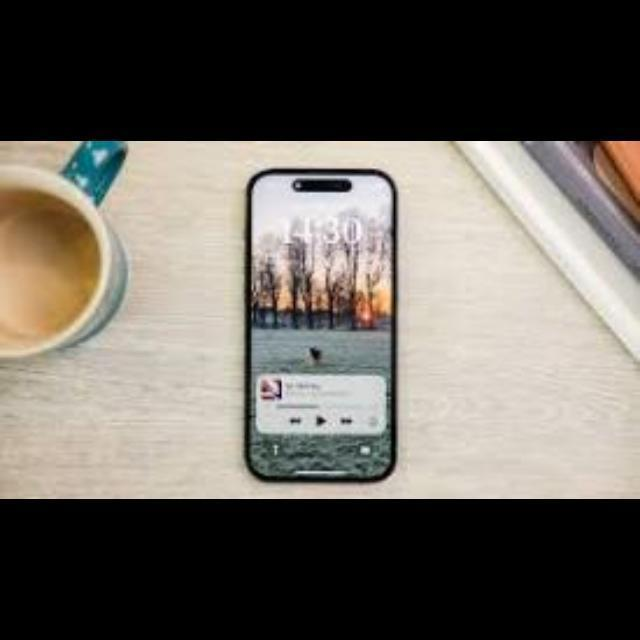phone: (241, 165, 398, 479)
